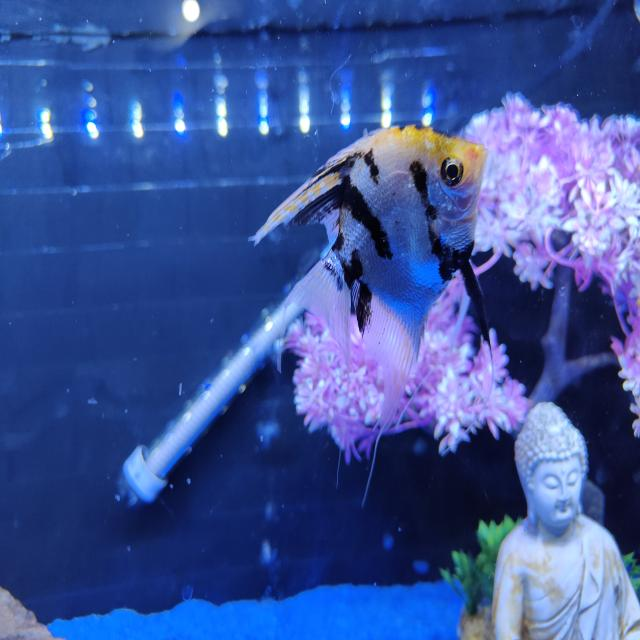Fish: (250, 126, 488, 432)
